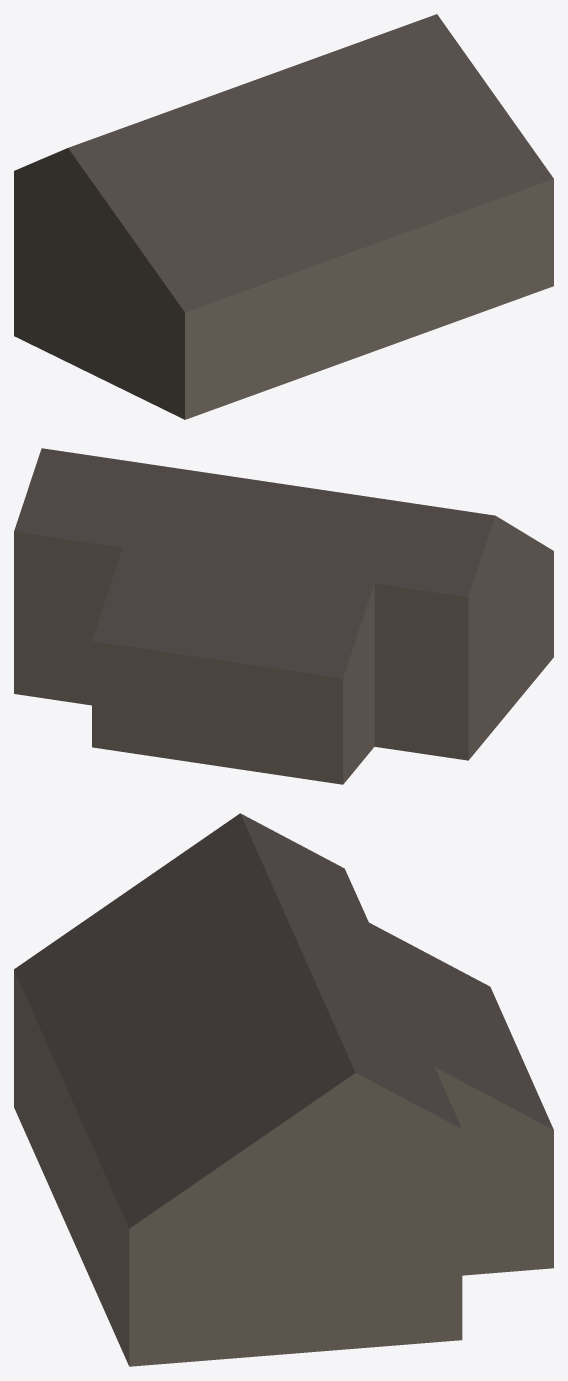
3 renders of one model, top to bottom at view 1: azimuth 30°, elevation 25°; view 2: azimuth 150°, elevation 25°; view 3: azimuth 270°, elevation 25°, orthographic. The views are drawn at different scales.
Visible parts, largest first — view 1: HP-w228035335; view 2: HP-w228035335; view 3: HP-w228035335.
Part boxes in pixels (x1,y1,x2,y2): HP-w228035335: (14, 14, 553, 419); HP-w228035335: (14, 448, 553, 784); HP-w228035335: (14, 813, 553, 1366).
Size of the model in its own units: 13.34 by 6 by 10.64.
